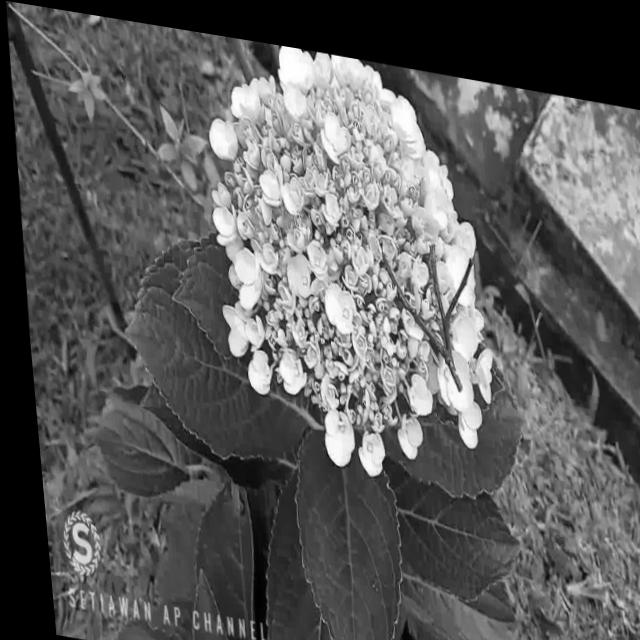Flower: (193, 25, 500, 471)
